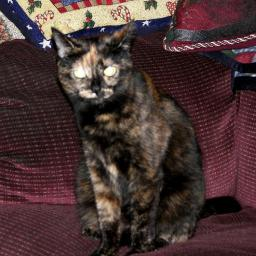catnose: (88, 80, 102, 94)
